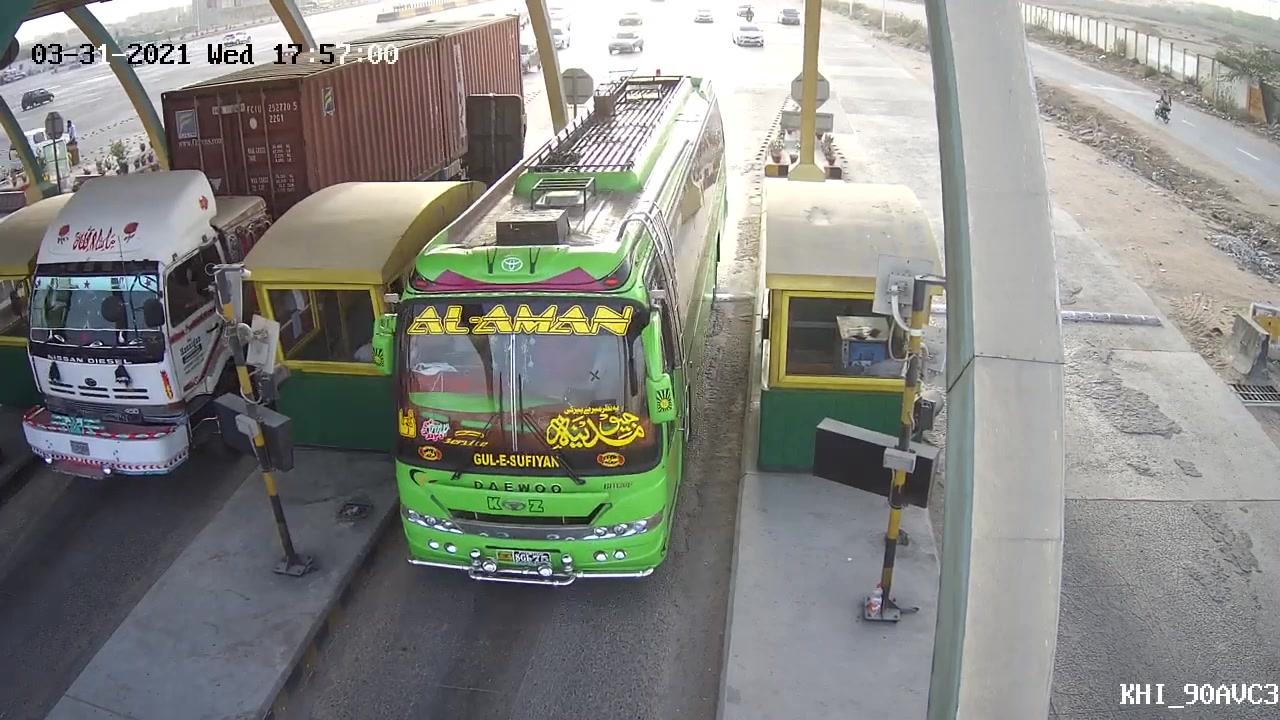F4: (367, 67, 737, 596)
